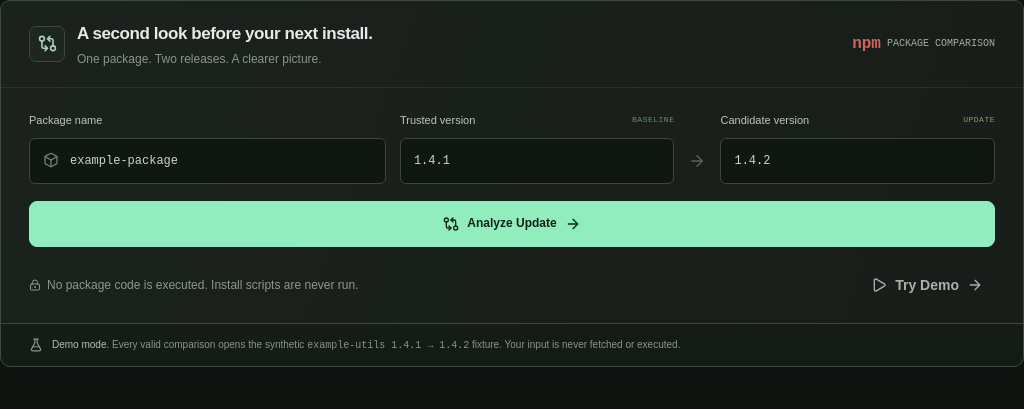
Test: package comparison form › rejects equal releases and identifies the candidate field
The image size is (1024, 409).
Type "1.4.1" into the field labelled "Candidate version UPDATE".
click(858, 161); type("1.4.1")  # box x1=720 y1=138 x2=995 y2=184
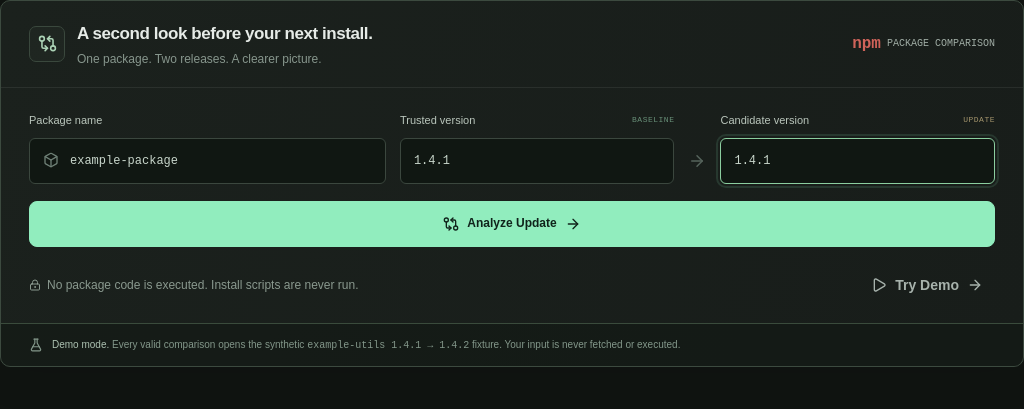
Click the button "Analyze Update".
click(512, 224)  # box x1=29 y1=201 x2=995 y2=247
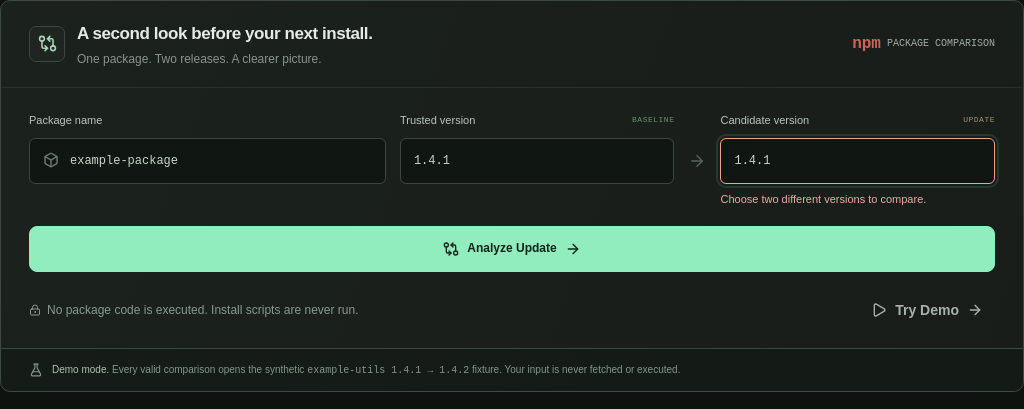
Result: the text "Choose two different versions to compare." is shown at x1=720 y1=193 x2=926 y2=205
